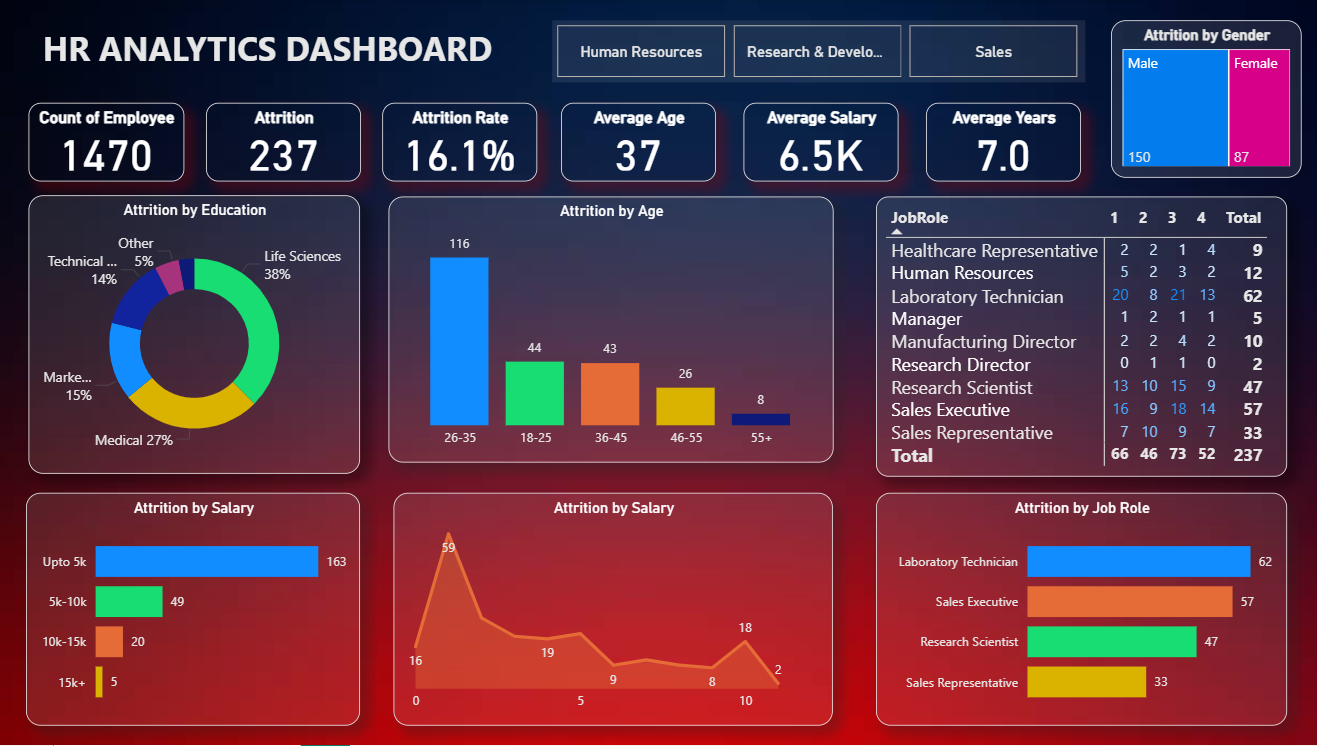

This screenshot's page, from the dashboard's own definition file:
{"tool":"powerbi","page":{"name":" HR ANALYTICS DASHBOARD","canvas":[1280,720],"ordinal":0},"visuals":[{"type":"card","title":"Count of Employee","fields":{"Values":["CountNonNull(HR_Analytics.EmpID)"]},"box":[30.9,100.3,150,76],"z":0},{"type":"card","title":"Attrition","fields":{"Values":["Sum(HR_Analytics.AttritionCount)"]},"box":[202.2,100.3,149.6,76],"z":1000},{"type":"card","title":"Attrition Rate","fields":{"Values":["HR_Analytics.AttitionRate"]},"box":[372.3,100.3,149.6,76],"z":2000},{"type":"card","title":"Average Age","fields":{"Values":["Avg(HR_Analytics.Age)"]},"box":[545.1,99.8,149.6,76],"z":3000},{"type":"card","title":"Average Salary","fields":{"Values":["Avg(HR_Analytics.MoonthlyIncome)"]},"box":[721.2,99.8,149.6,76],"z":4000},{"type":"card","title":"Average Years","fields":{"Values":["Avg(HR_Analytics.YearsAtCompany)"]},"box":[897.4,99.8,149.6,76],"z":5000},{"type":"donutChart","title":"Attrition by Education","fields":{"Category":["HR_Analytics.EducationField"],"Y":["Sum(HR_Analytics.AttritionCount)"]},"box":[31.6,189.4,319.7,269],"z":6000},{"type":"columnChart","title":"Attrition by Age","fields":{"Category":["HR_Analytics.AgeGroup"],"Y":["Sum(HR_Analytics.AttritionCount)"]},"box":[378.7,190.7,429.5,256.6],"z":7000},{"type":"pivotTable","fields":{"Rows":["HR_Analytics.JobRole"],"Columns":["HR_Analytics.JobSatisfaction"],"Values":["Sum(HR_Analytics.AttritionCount)"]},"box":[849.4,190.7,396.6,270.3],"z":8000},{"type":"barChart","title":"Attrition by Salary","fields":{"Category":["HR_Analytics.SalarySlab"],"Y":["Sum(HR_Analytics.AttritionCount)"]},"box":[28.8,476.2,322.5,225],"z":9000},{"type":"barChart","title":"Attrition by Job Role","fields":{"Category":["HR_Analytics.JobRole"],"Y":["Sum(HR_Analytics.AttritionCount)"]},"box":[849.4,476.2,396.6,225],"z":10000},{"type":"areaChart","title":"Attrition by Salary","fields":{"Category":["HR_Analytics.YearsAtCompany"],"Y":["Sum(HR_Analytics.AttritionCount)"]},"box":[384.2,476.2,424,225],"z":11000},{"type":"textbox","box":[31.6,20.6,463.8,60.4],"z":12000},{"type":"treemap","title":"Attrition by Gender","fields":{"Group":["HR_Analytics.Gender"],"Values":["Sum(HR_Analytics.AttritionCount)"]},"box":[1075.8,20.6,183.9,152.3],"z":13000},{"type":"advancedSlicerVisual","fields":{"Values":["HR_Analytics.Department"]},"box":[536.5,20.6,514.6,60.4],"z":14000}]}

Visuals, with their boxes in screenshot pixels (x1, y1, x2, y2), scaled from the page's 1280x720 canvas onto the 1317x746 screenshot:
"Count of Employee" card: x1=32 y1=104 x2=186 y2=183
"Attrition" card: x1=208 y1=104 x2=362 y2=183
"Attrition Rate" card: x1=383 y1=104 x2=537 y2=183
"Average Age" card: x1=561 y1=103 x2=715 y2=182
"Average Salary" card: x1=742 y1=103 x2=896 y2=182
"Average Years" card: x1=923 y1=103 x2=1077 y2=182
"Attrition by Education" donutChart: x1=33 y1=196 x2=361 y2=475
"Attrition by Age" columnChart: x1=390 y1=198 x2=832 y2=463
pivotTable - HR_Analytics.JobRole x HR_Analytics.JobSatisfaction: x1=874 y1=198 x2=1282 y2=478
"Attrition by Salary" barChart: x1=30 y1=493 x2=361 y2=727
"Attrition by Job Role" barChart: x1=874 y1=493 x2=1282 y2=727
"Attrition by Salary" areaChart: x1=395 y1=493 x2=832 y2=727
textbox: x1=33 y1=21 x2=510 y2=84
"Attrition by Gender" treemap: x1=1107 y1=21 x2=1296 y2=179
advancedSlicerVisual - HR_Analytics.Department: x1=552 y1=21 x2=1081 y2=84
